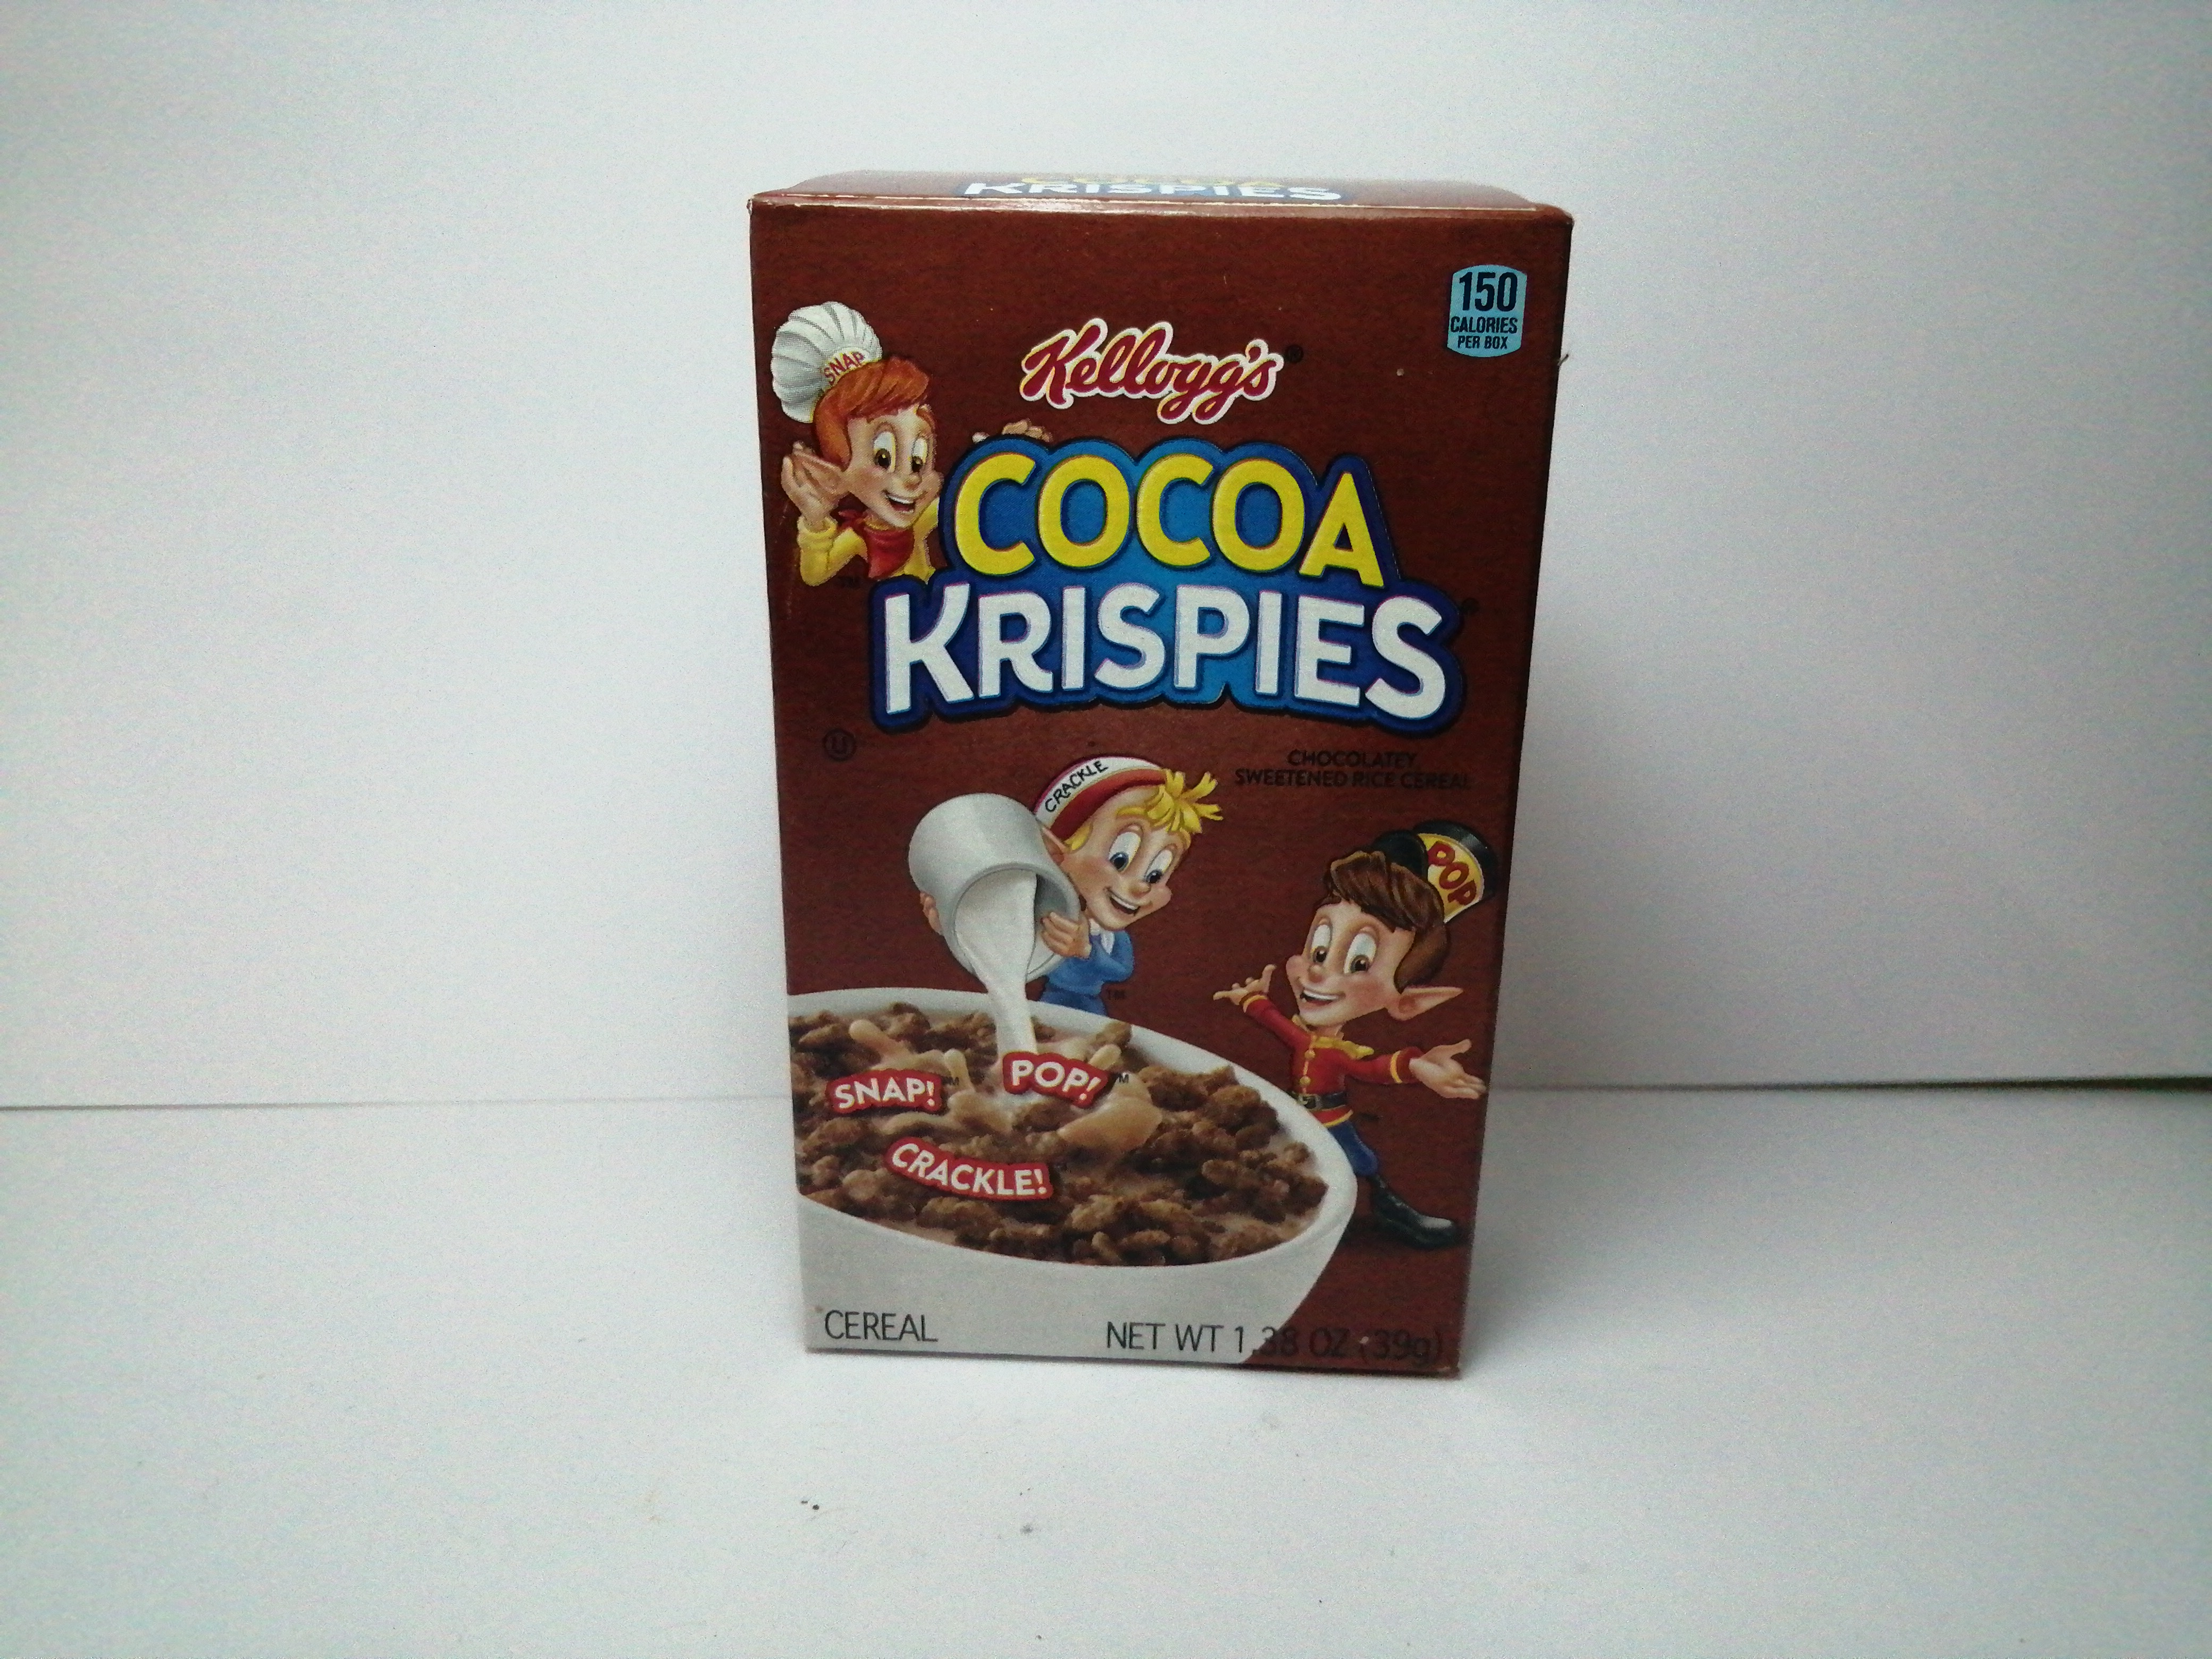cereal chocolate: (735, 143, 1576, 1385)
